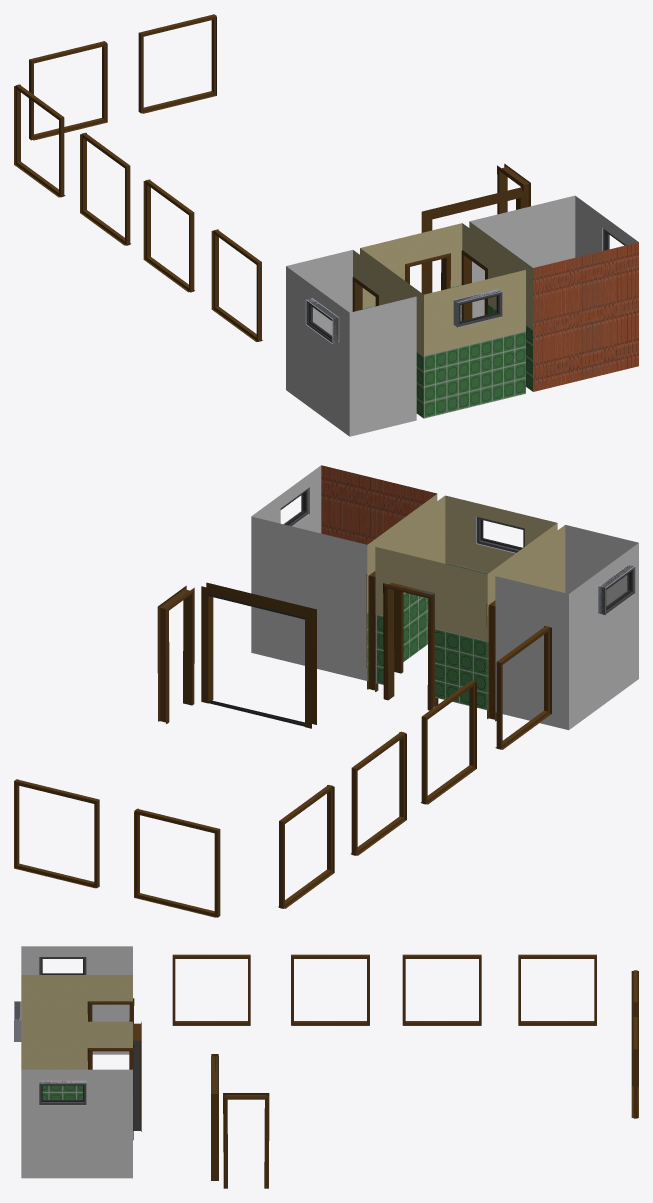
Rendered from paredes.obj.
3 renders of one model, top to bottom at view 1: azimuth 30°, elevation 25°; view 2: azimuth 150°, elevation 25°; view 3: azimuth 270°, elevation 25°, orthographic. The views are drawn at different scales.
Visible parts, largest first — view 1: Plane.000_Plane.002; view 2: Plane.000_Plane.002; view 3: Plane.000_Plane.002.
Part boxes in pixels (x1,y1,x2,y2): Plane.000_Plane.002: (14,14,638,436); Plane.000_Plane.002: (14,465,638,917); Plane.000_Plane.002: (14,946,638,1188).
Size of the model in its own units: 14.86 by 6.18 by 30.24.
